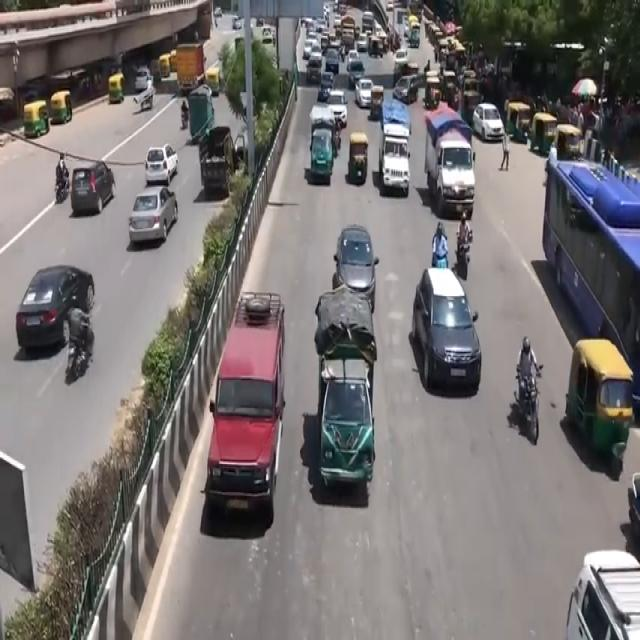BUS: (540, 150, 638, 380)
MOTORCYCLE: (523, 368, 544, 445)
TRUCK: (210, 298, 290, 538), (319, 282, 377, 502), (378, 100, 410, 197)
